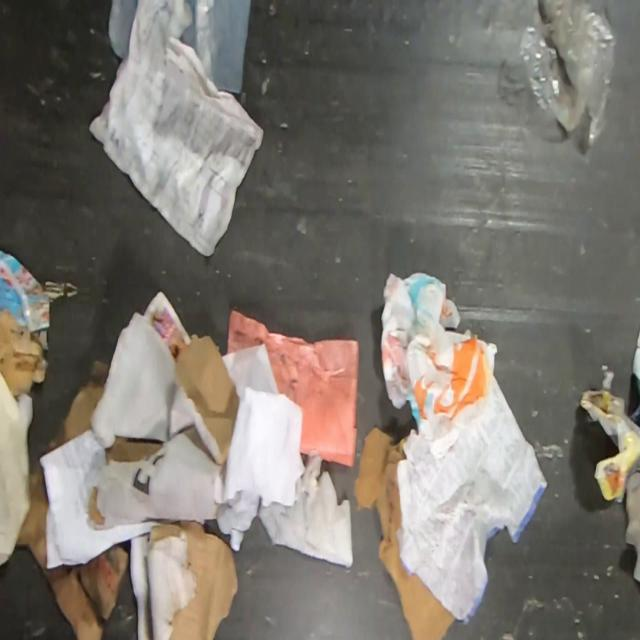cardboard: (12, 361, 131, 639), (92, 334, 238, 532), (350, 424, 456, 639), (147, 522, 240, 639)
soft_plastic: (517, 0, 619, 150), (108, 0, 252, 94)
